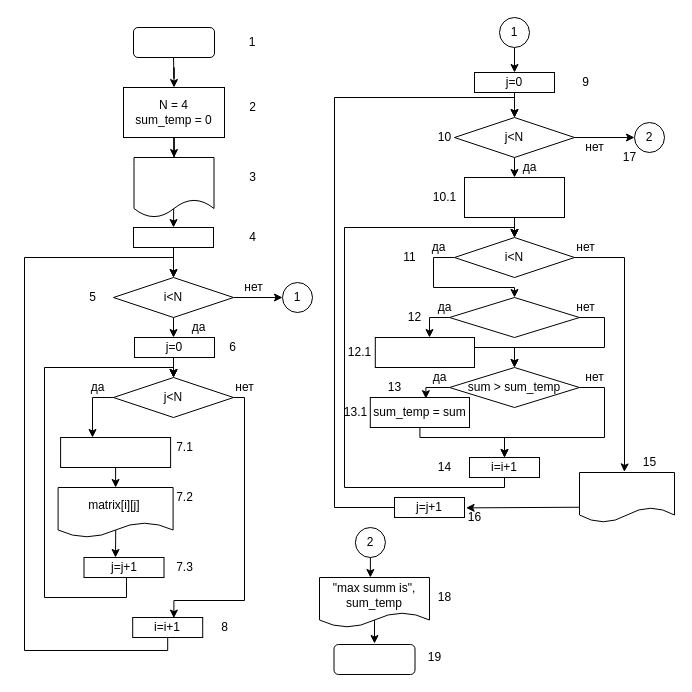
This 692x692 diagram has some shape labels left out. The centre of each missing label's shape, as x and y in pixels:
"Matrix: ": (173,187)
"Summ ", j+1, "line", sum: (626,497)
i=0: (173,237)
i=0, sum = 0: (514,197)
matrix[i][j] = rand() % 100: (115,452)
matrix[i][j]%2 == 0: (514,317)
sum +=matrix[i][j]: (424,352)
конец: (374,659)
начало: (173,42)
